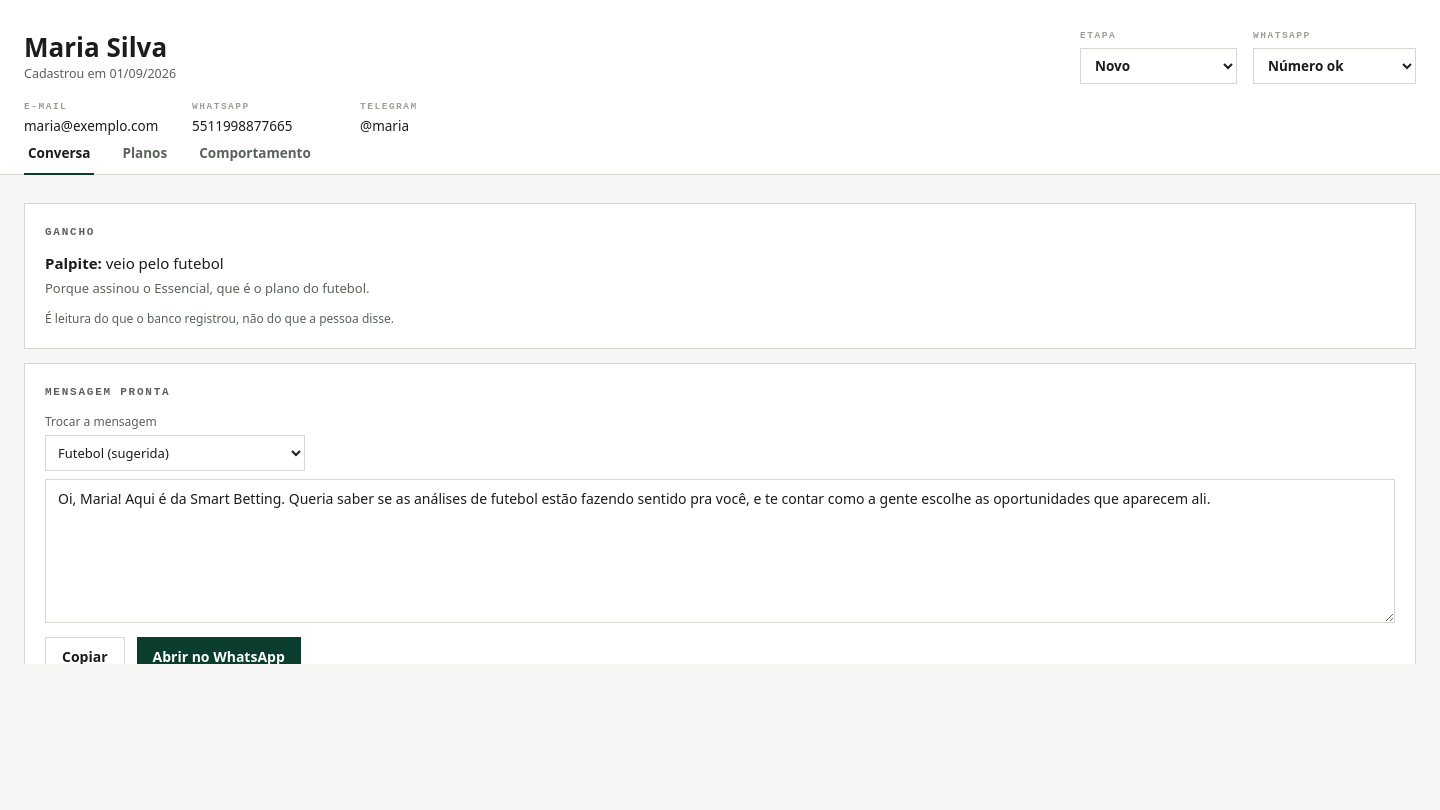
Test case: Ficha · o cabeçalho e as abas › planos e acessos viram aba, e não coluna
This screenshot has width=1440, height=810.
Expected: the text "o editor de acesso" is not shown
Click the tab "Planos".
click(145, 156)  # box [118,136,171,175]
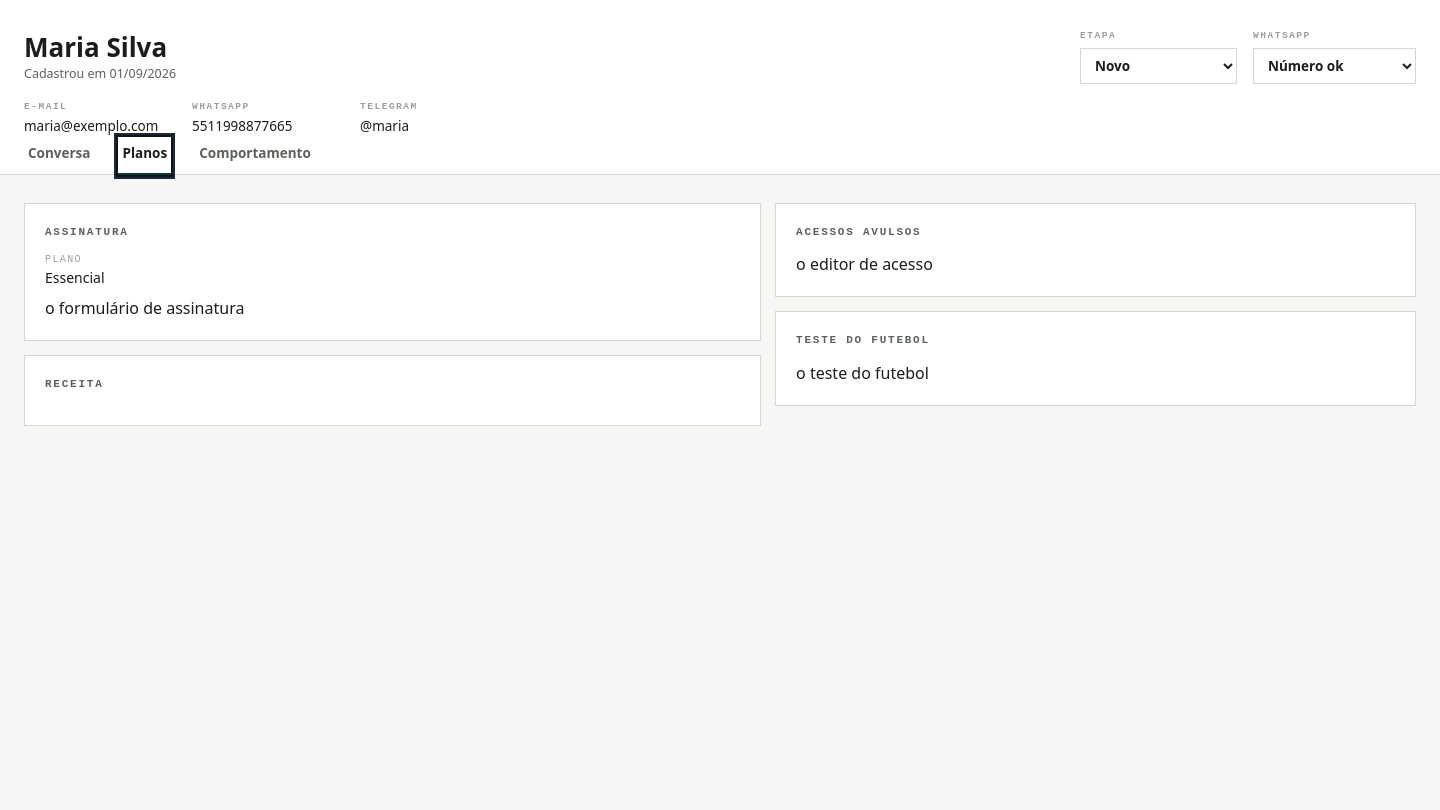
Expected: the text "o editor de acesso" is shown, [796,253,933,275]
